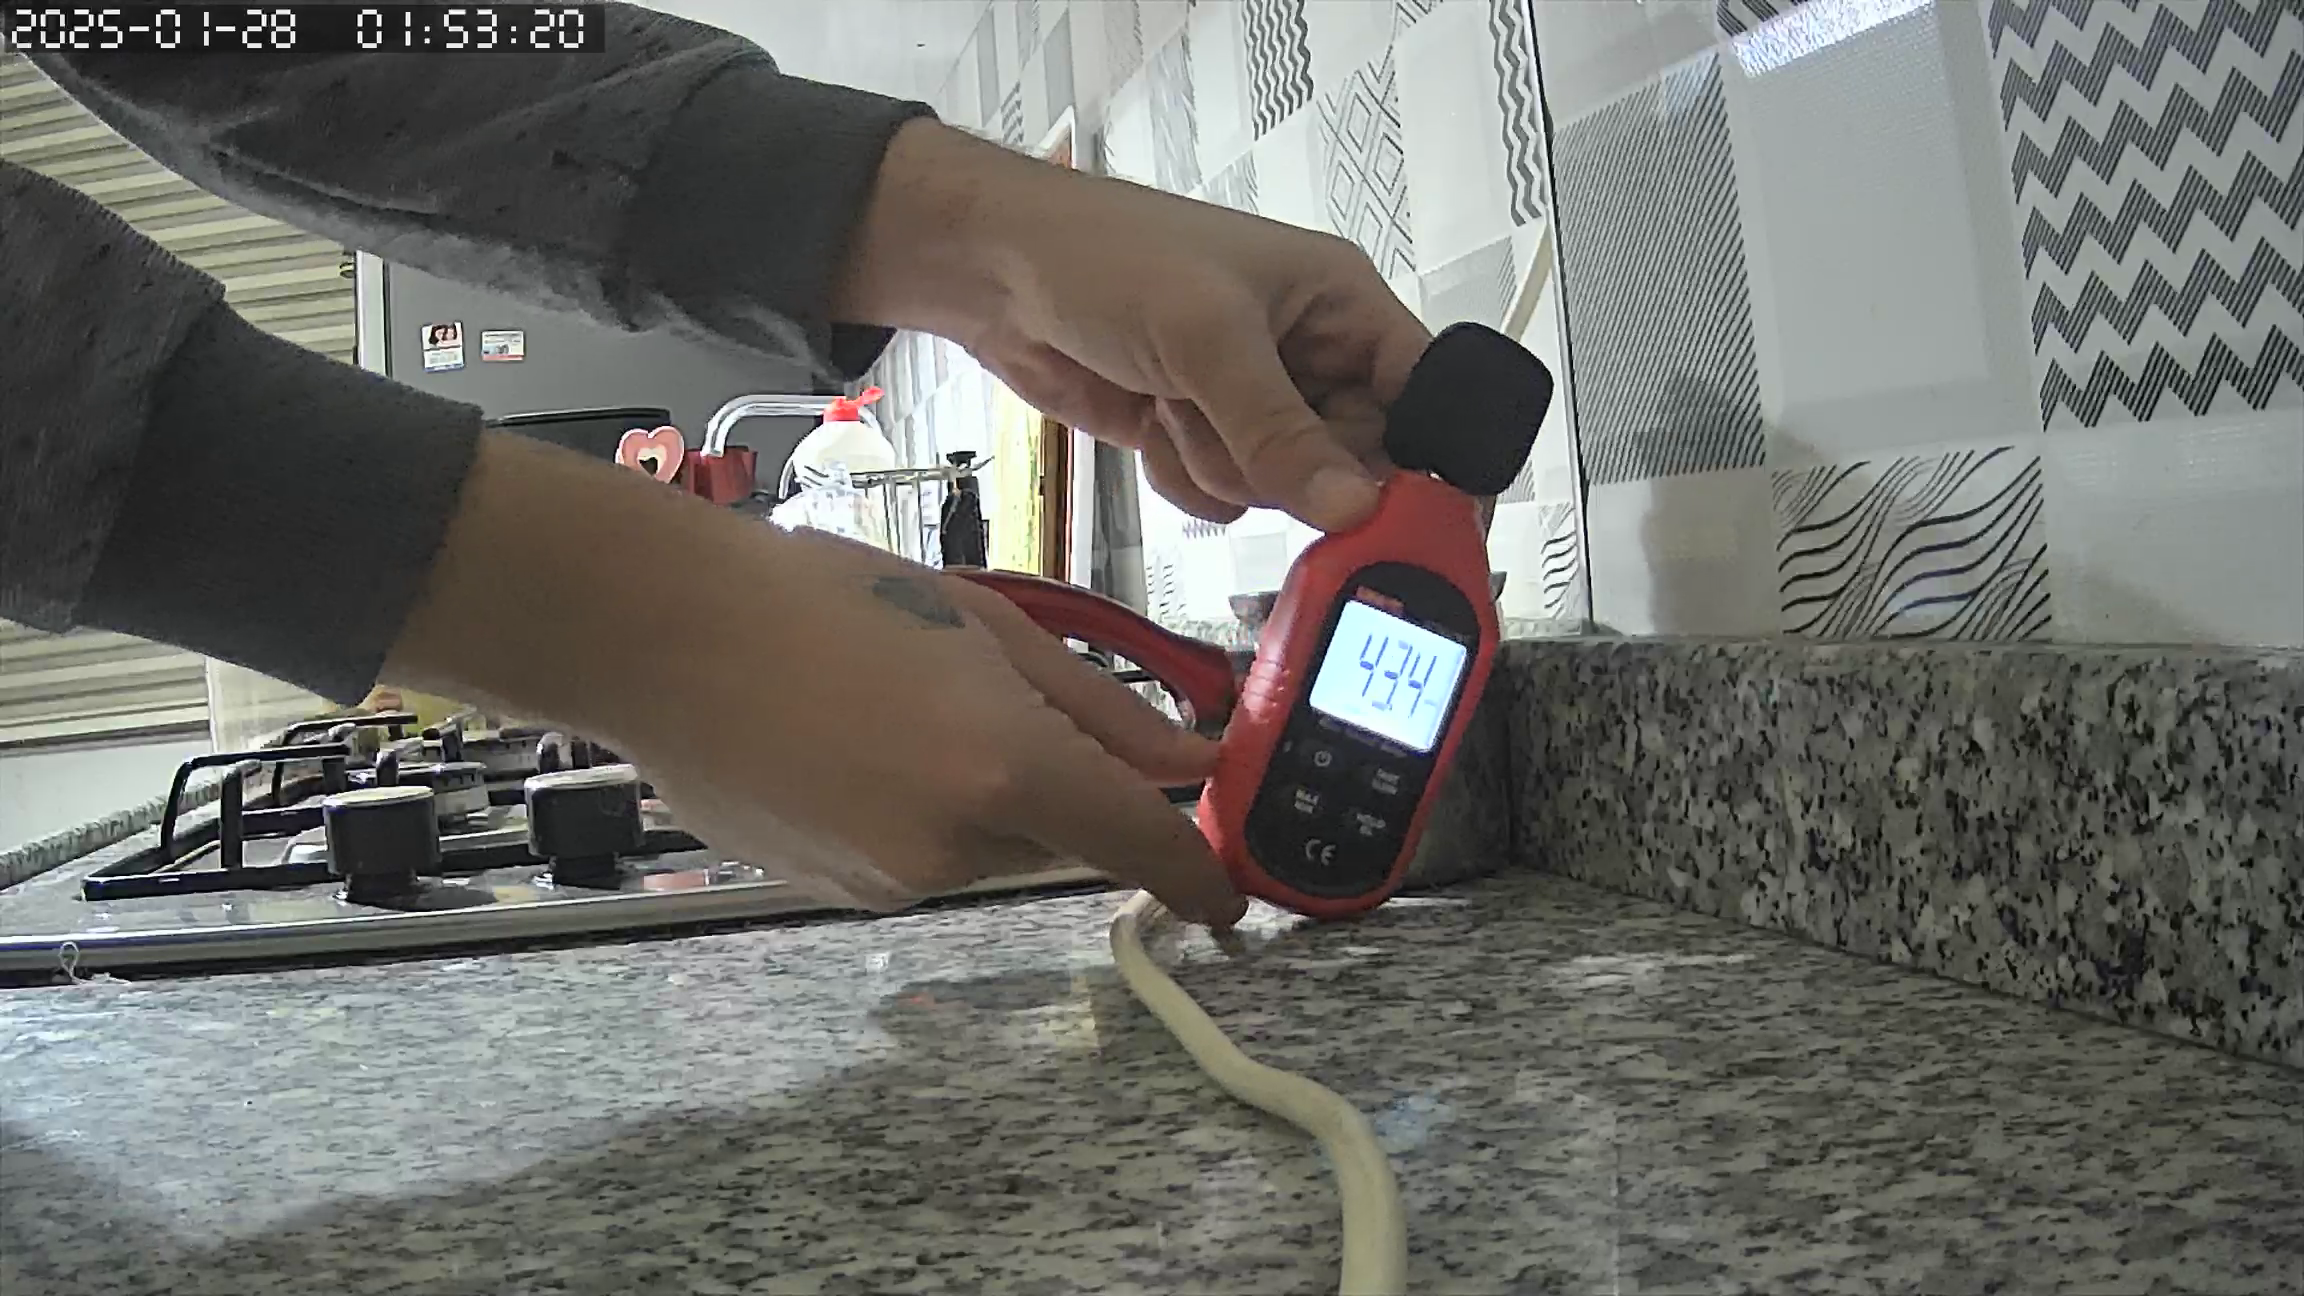screen: (1305, 597, 1465, 753)
